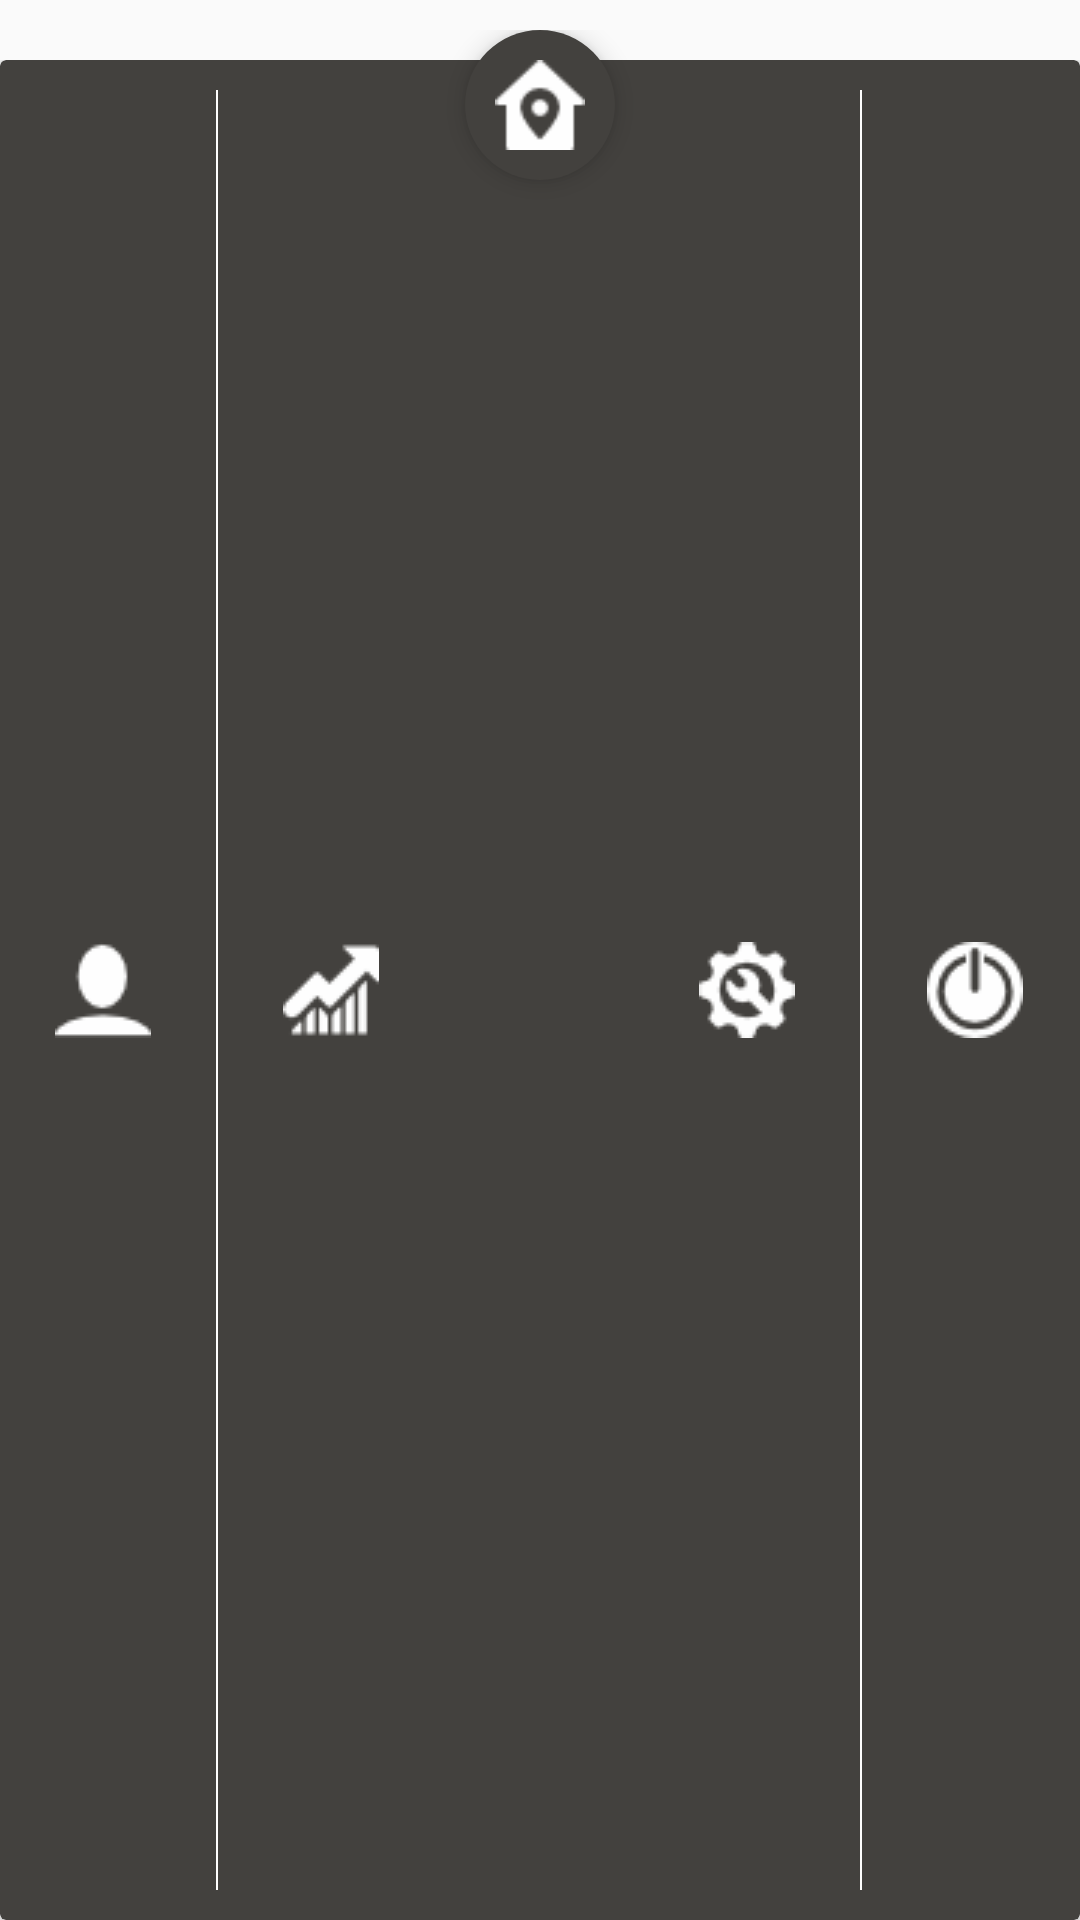

Point at icon controls on the screen. Image size 1080×1920, points as [x,y].
home menu: [540,105]
profile menu: [103,990]
report menu: [331,990]
setting menu: [747,990]
